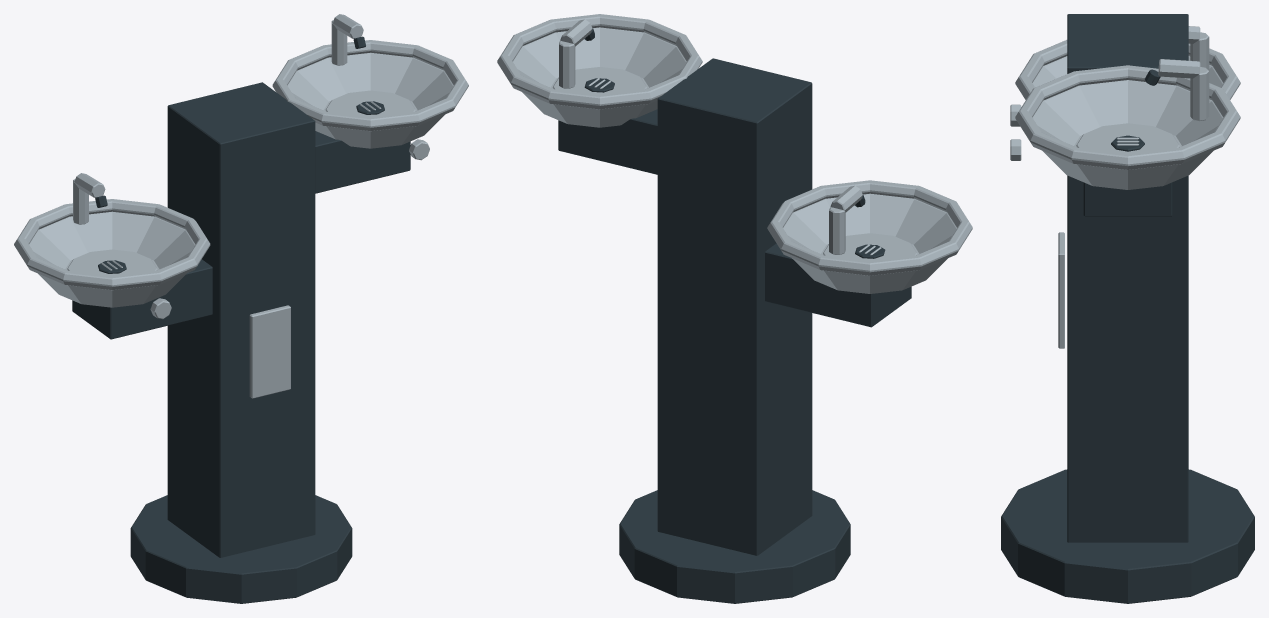
The model's file is b01_dual_height_drinking_fountain.glb.
The picture shows the model from 3 angles, left to right: view 1: azimuth 30°, elevation 25°; view 2: azimuth 150°, elevation 25°; view 3: azimuth 270°, elevation 25°; orthographic projection. The views are drawn at different scales.
Parts seen in each view (by area): view 1: b01_dual_height_drinking_fountain; view 2: b01_dual_height_drinking_fountain; view 3: b01_dual_height_drinking_fountain.
Part boxes in pixels (box(x1,y1,x2,y2)): b01_dual_height_drinking_fountain: box(14, 14, 468, 603); b01_dual_height_drinking_fountain: box(497, 14, 972, 603); b01_dual_height_drinking_fountain: box(1001, 14, 1254, 603).
Bounding box in the file's own units: 1.03 × 1.13 × 0.46.
